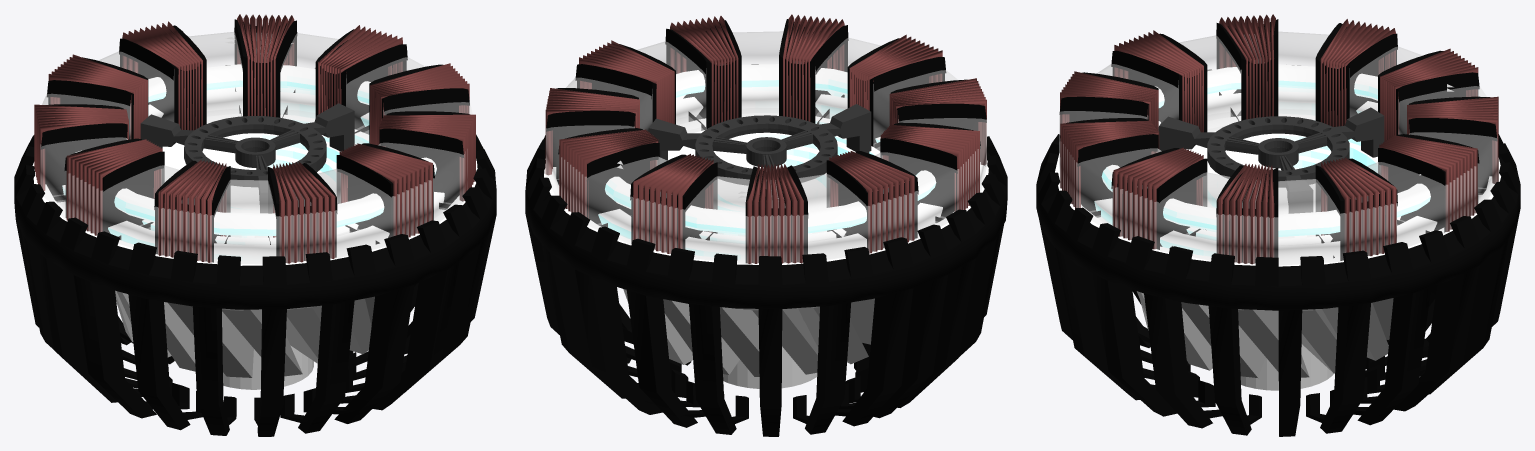
Rendered from iron_mans_arc_reactor.glb.
The picture shows the model from 3 angles, left to right: view 1: azimuth 30°, elevation 25°; view 2: azimuth 150°, elevation 25°; view 3: azimuth 270°, elevation 25°; orthographic projection.
Visible parts, largest first — view 1: Object_21, Object_15, Object_4, Object_7, Object_22, Object_19, Object_24, Object_13, Object_26; view 2: Object_21, Object_15, Object_4, Object_7, Object_22, Object_19, Object_24, Object_13, Object_26; view 3: Object_21, Object_15, Object_4, Object_7, Object_22, Object_19, Object_24, Object_13, Object_26.
Part boxes in pixels (x1=…): Object_21: x1=14, y1=65, x2=496, y2=436; Object_15: x1=34, y1=14, x2=475, y2=263; Object_4: x1=40, y1=32, x2=472, y2=263; Object_7: x1=41, y1=19, x2=469, y2=262; Object_22: x1=32, y1=87, x2=477, y2=265; Object_19: x1=140, y1=103, x2=354, y2=212; Object_24: x1=115, y1=290, x2=374, y2=377; Object_13: x1=75, y1=64, x2=436, y2=235; Object_26: x1=223, y1=345, x2=313, y2=389; Object_21: x1=525, y1=64, x2=1007, y2=436; Object_15: x1=545, y1=14, x2=986, y2=263; Object_4: x1=546, y1=31, x2=986, y2=263; Object_7: x1=546, y1=19, x2=986, y2=263; Object_22: x1=544, y1=86, x2=988, y2=264; Object_19: x1=648, y1=104, x2=871, y2=185; Object_24: x1=623, y1=289, x2=874, y2=376; Object_13: x1=605, y1=64, x2=936, y2=234; Object_26: x1=723, y1=346, x2=817, y2=388; Object_21: x1=1036, y1=69, x2=1520, y2=436; Object_15: x1=1060, y1=14, x2=1498, y2=264; Object_4: x1=1059, y1=31, x2=1497, y2=265; Object_7: x1=1059, y1=19, x2=1497, y2=262; Object_22: x1=1055, y1=87, x2=1500, y2=266; Object_19: x1=1159, y1=107, x2=1384, y2=213; Object_24: x1=1136, y1=291, x2=1393, y2=377; Object_13: x1=1101, y1=64, x2=1430, y2=236; Object_26: x1=1240, y1=344, x2=1333, y2=390.
Size of what is drawn, in the model's own units: 2.73 by 1.71 by 2.73.
